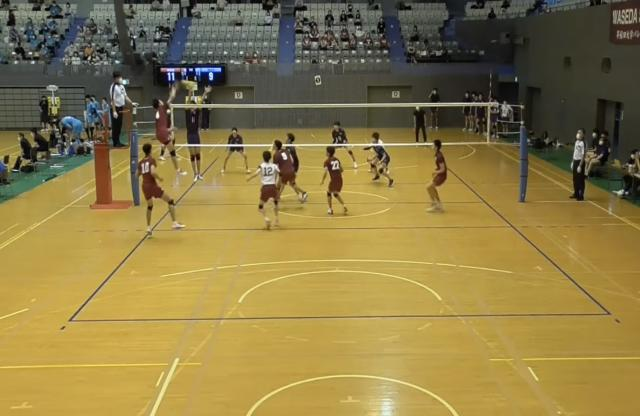spike: (150, 73, 190, 181)
